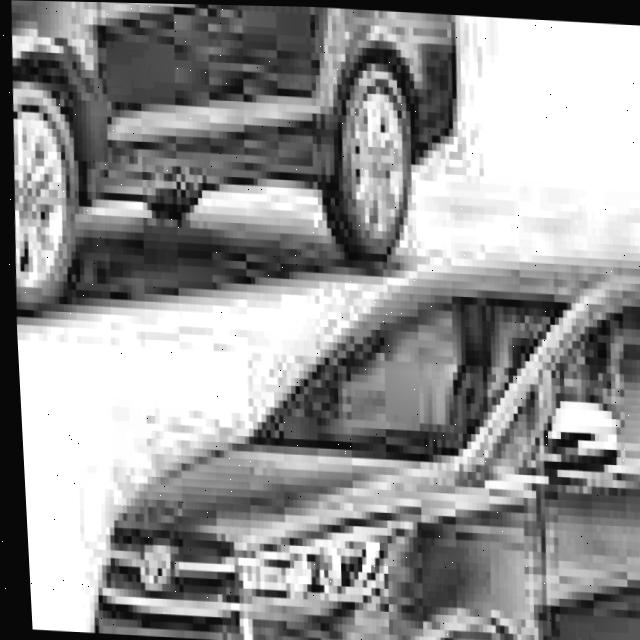light_vehicle: (62, 220, 640, 640), (0, 0, 467, 332)
